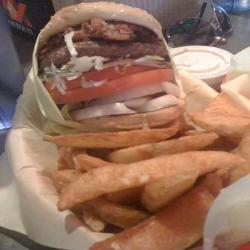burger: (29, 2, 195, 134)
fries: (60, 130, 246, 243)
